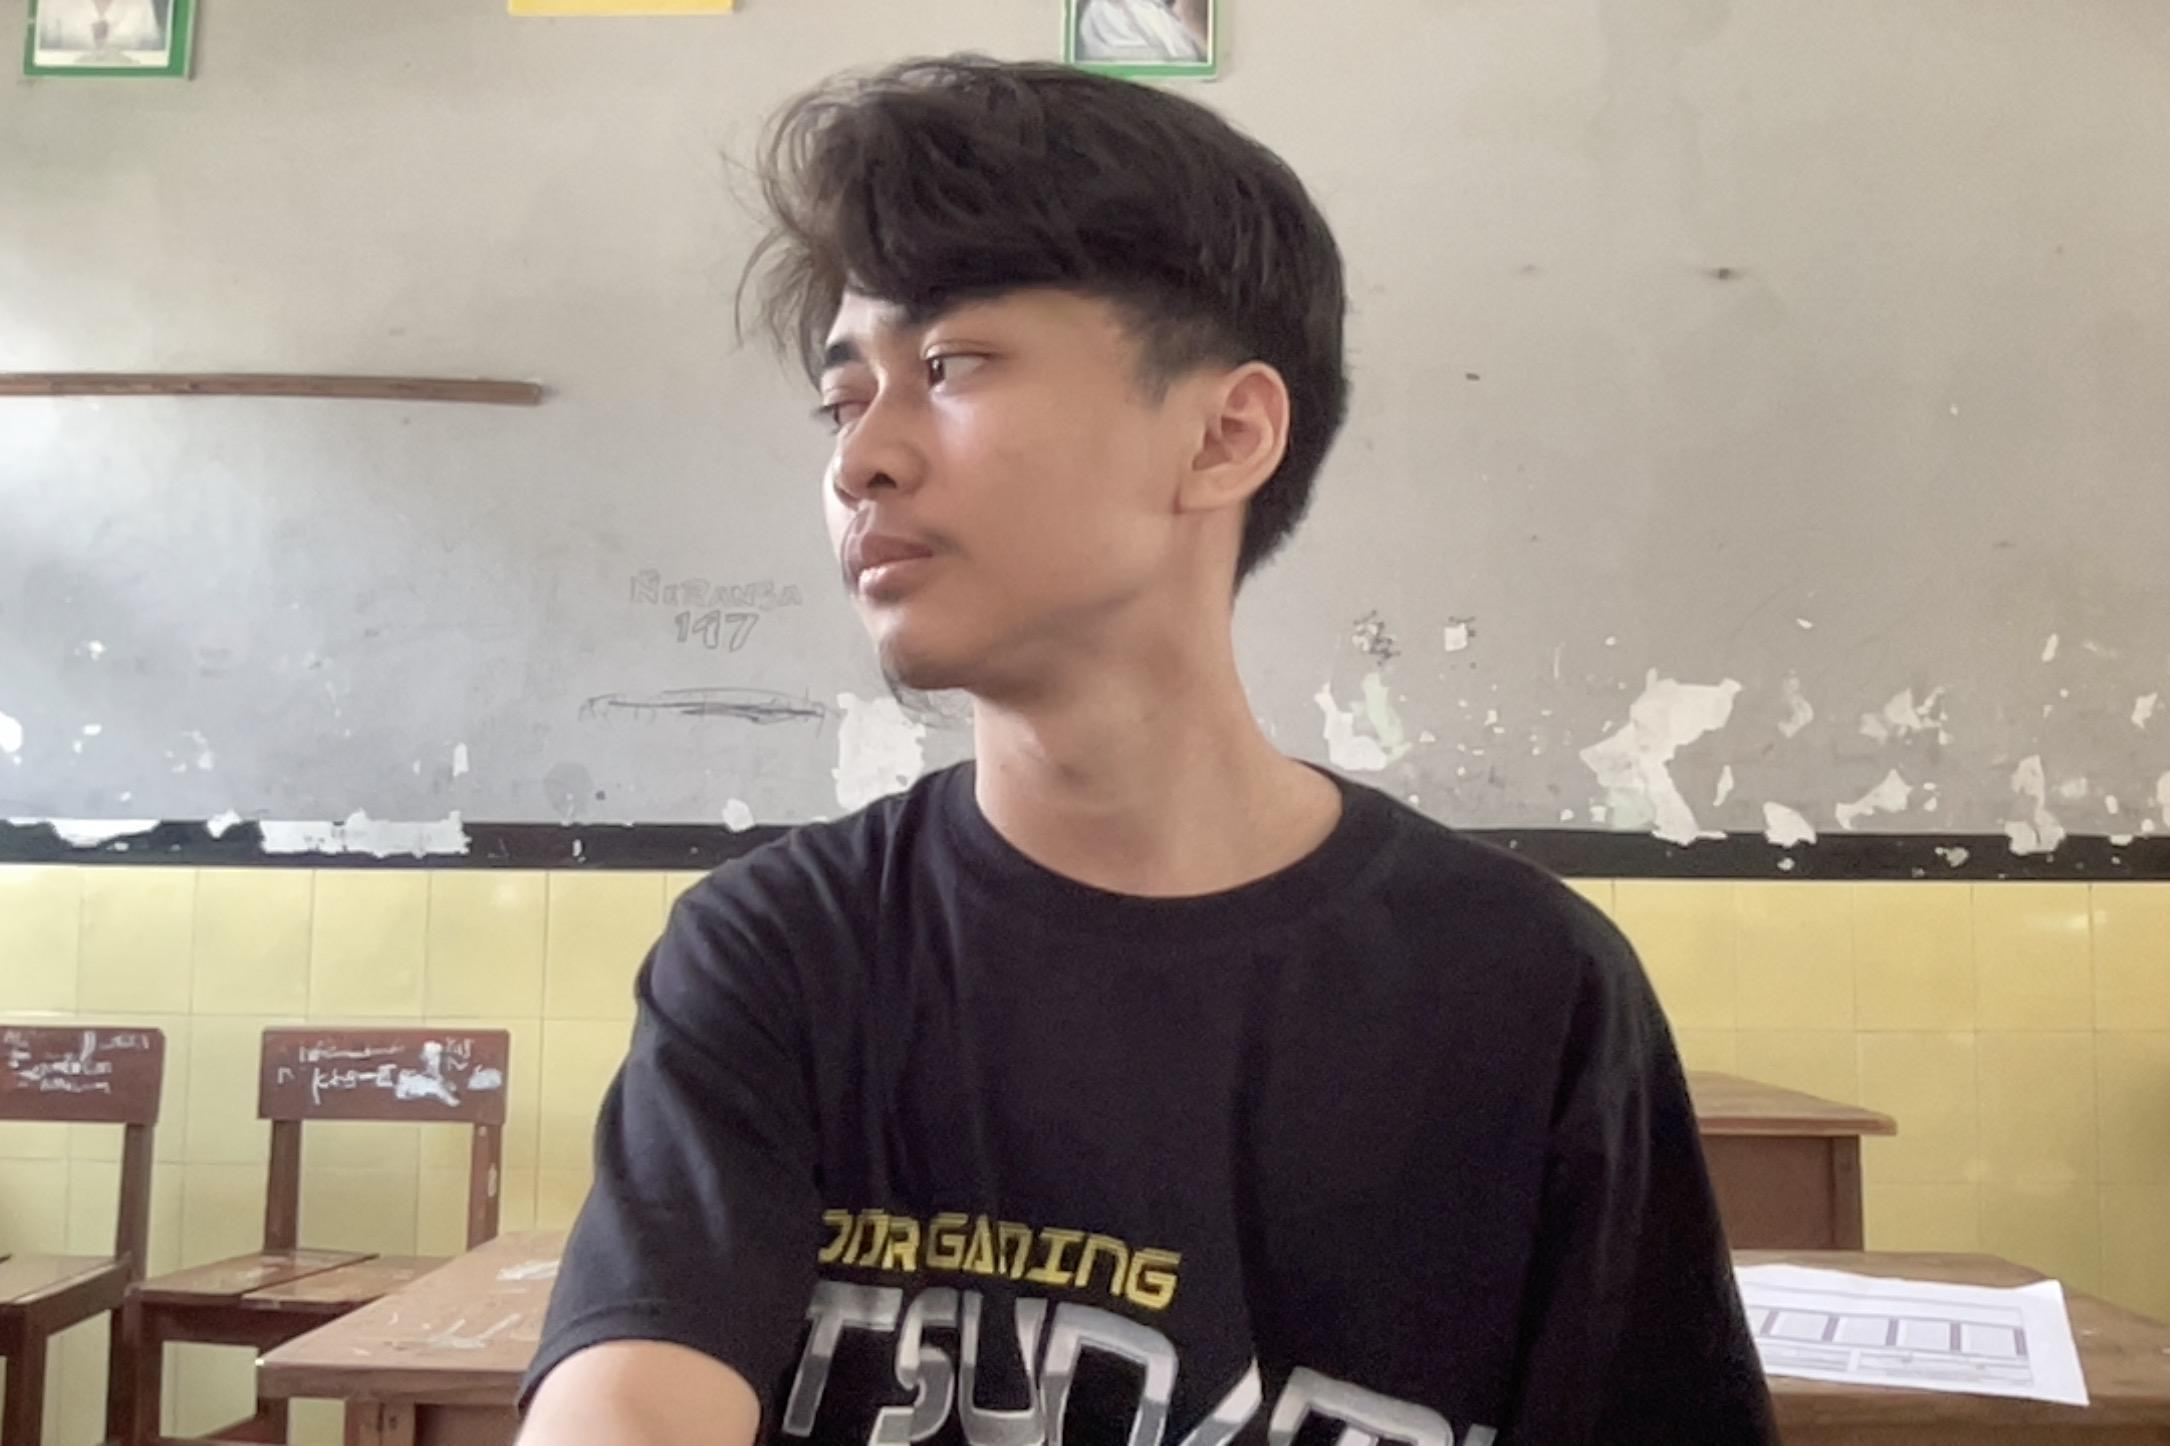cheating: (490, 15, 1847, 1446)
